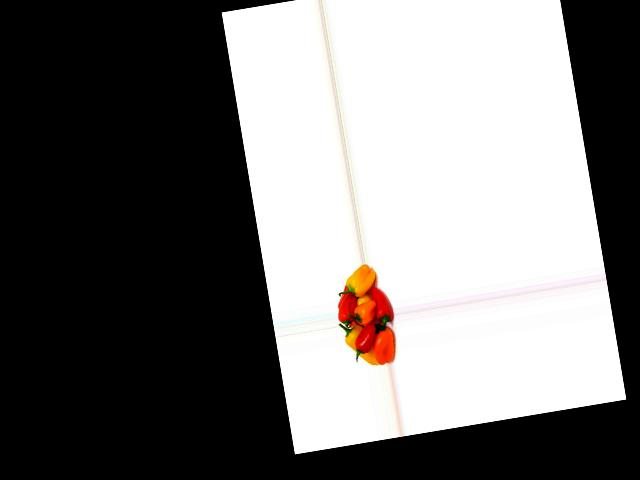bell_pepper: (340, 322, 377, 369)
